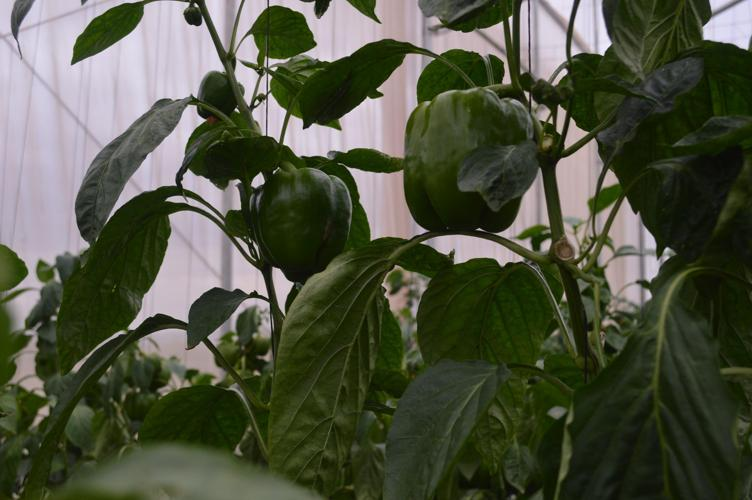BellPepper: (402, 88, 532, 236), (247, 166, 356, 279), (195, 73, 240, 113)
